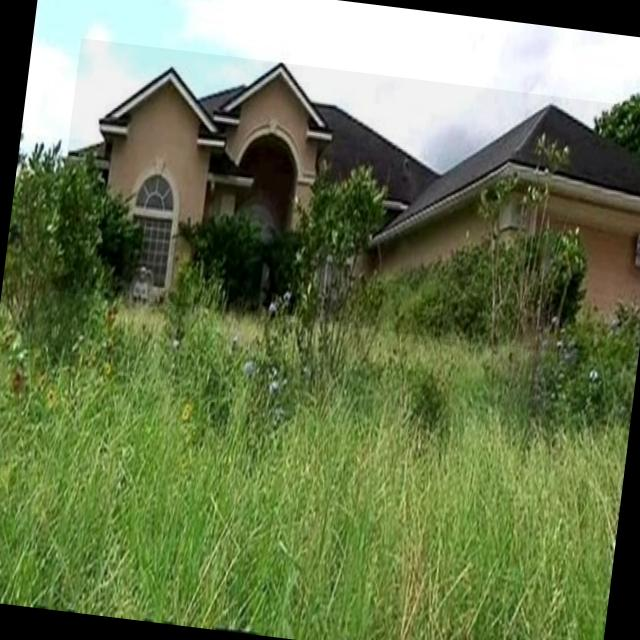House: (50, 38, 640, 362)
